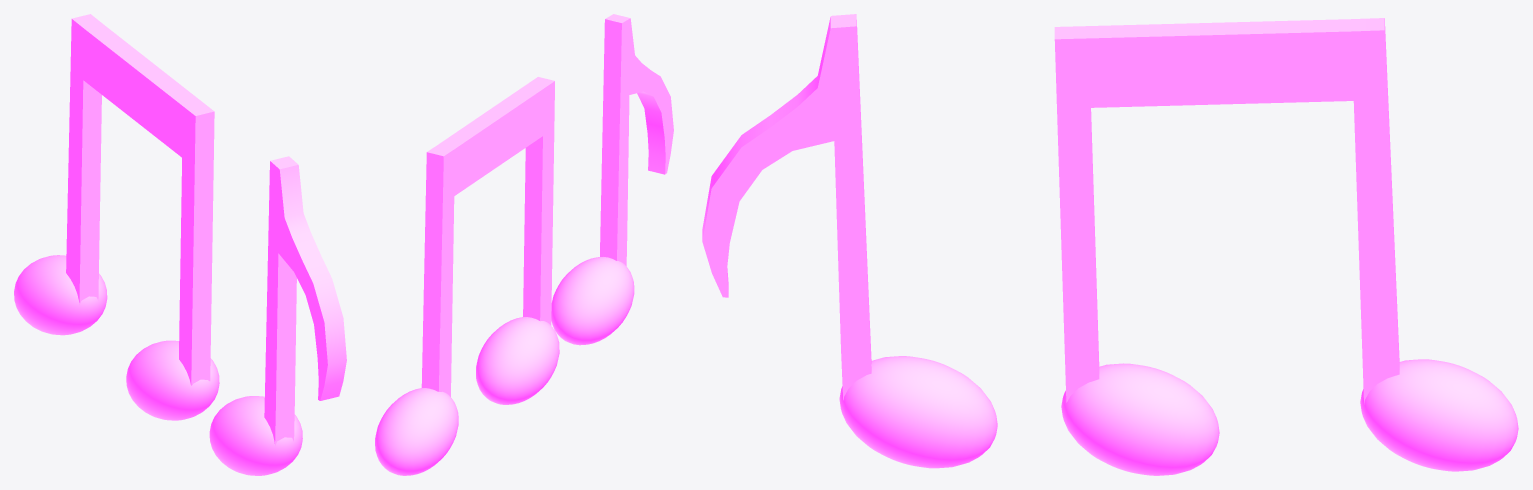
Rendered from note (2).fbx.
3 renders of one model, left to right at view 1: azimuth 30°, elevation 25°; view 2: azimuth 150°, elevation 25°; view 3: azimuth 270°, elevation 25°, orthographic. The views are drawn at different scales.
Visible parts, largest first — view 1: Two thingys, Quarter, Tail; view 2: Two thingys, Quarter, Tail; view 3: Two thingys, Quarter, Tail.
Part boxes in pixels (x1,y1,x2,y2): Two thingys: (14,14,219,420); Quarter: (209,156,302,475); Tail: (278,165,346,400); Two thingys: (375,77,559,475); Quarter: (551,14,634,345); Tail: (629,19,673,174); Two thingys: (1054,18,1518,475); Quarter: (830,14,997,468); Tail: (702,17,834,297).
Bounding box in the file's own units: 1.11 × 4.93 × 8.1.
